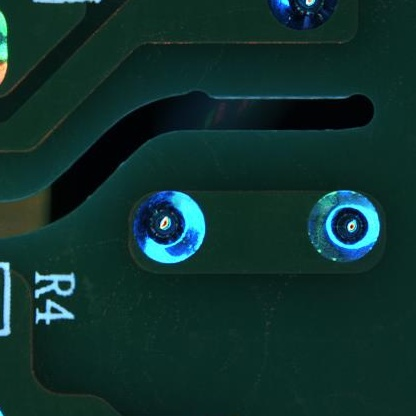spot: (307, 189, 381, 265), (132, 191, 207, 265), (269, 1, 338, 29)
